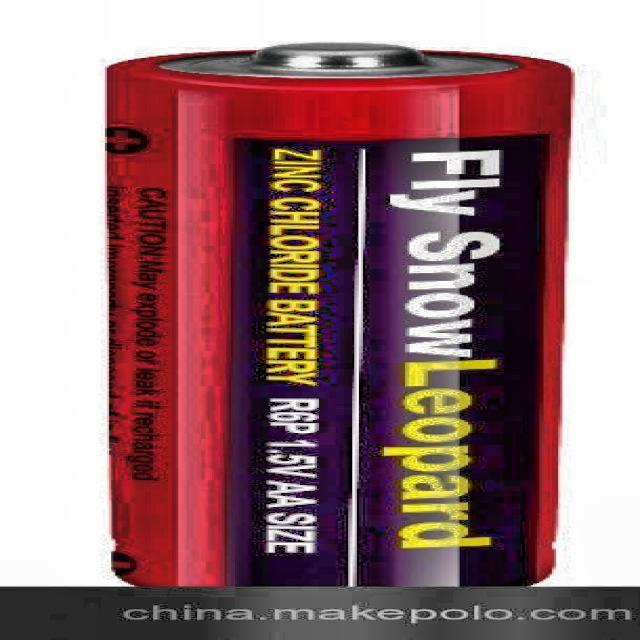Non-Valuable Waste - Batteries: (108, 42, 570, 586)
